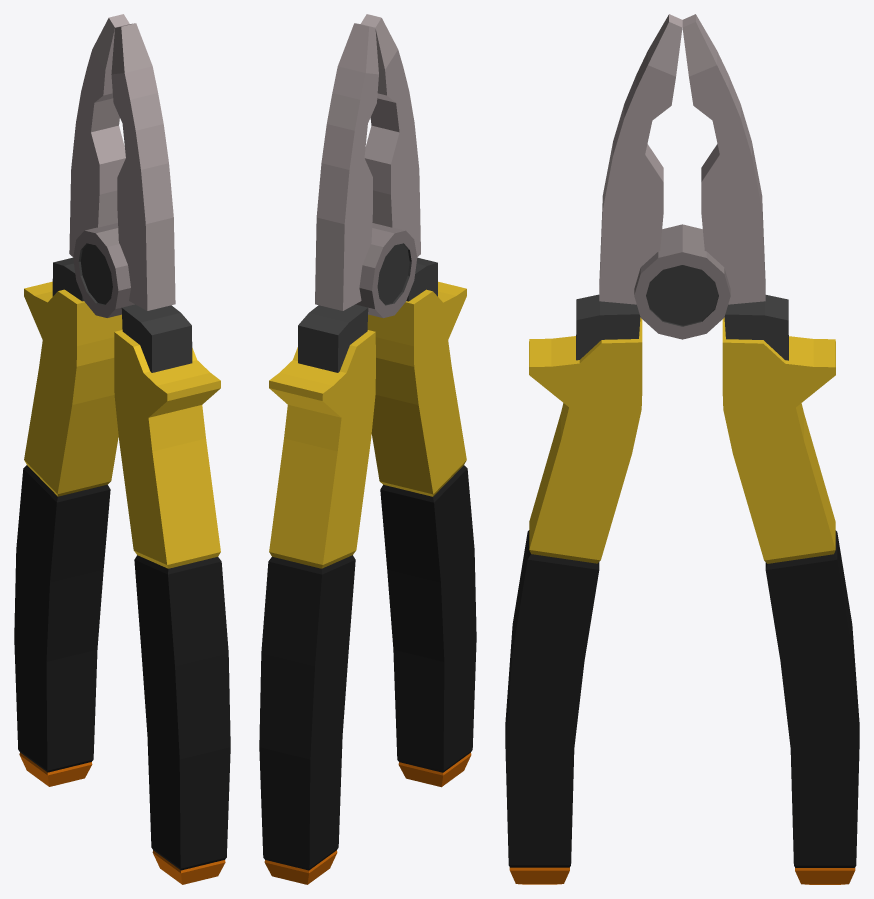
File: G3_Prop_Alicate_1.fbx
The picture shows the model from 3 angles, left to right: view 1: azimuth 30°, elevation 25°; view 2: azimuth 150°, elevation 25°; view 3: azimuth 270°, elevation 25°; orthographic projection. The views are drawn at different scales.
Visible parts, largest first — view 1: Cube.005; view 2: Cube.005; view 3: Cube.005.
Boxes of the visible parts, box(x1,y1,x2,y2) form: Cube.005: box(14, 14, 230, 884); Cube.005: box(259, 14, 476, 884); Cube.005: box(505, 14, 859, 884).
Bounding box in the file's own units: 51.21 × 730 × 272.
